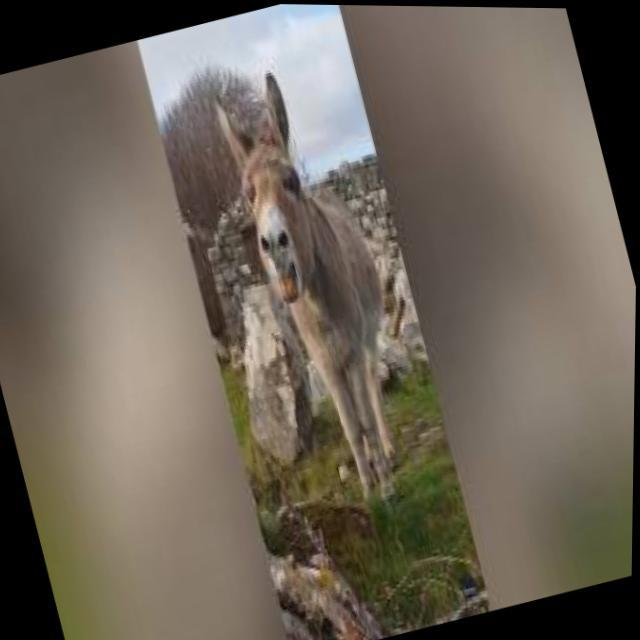Donkey: (207, 58, 434, 520)
